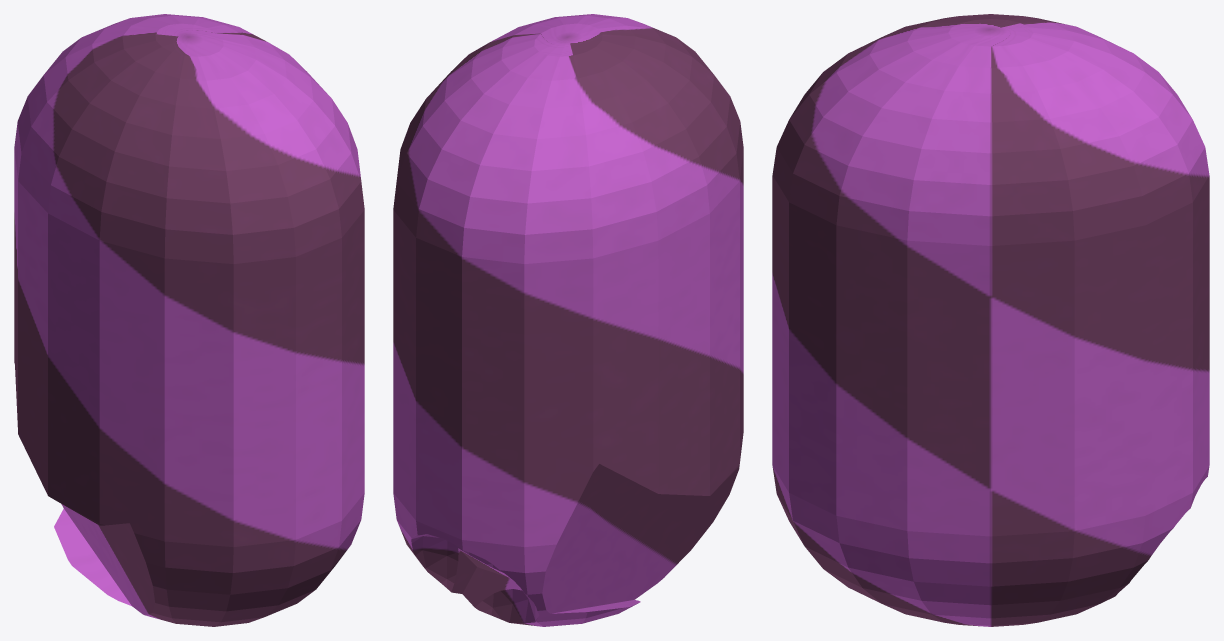
The model's file is stall.glb.
3 views of the same model, side by side, from view 1: azimuth 30°, elevation 25°; view 2: azimuth 150°, elevation 25°; view 3: azimuth 270°, elevation 25° (orthographic). The views are drawn at different scales.
Parts seen in each view (by area): view 1: geometry_0; view 2: geometry_0; view 3: geometry_0.
Boxes of the visible parts, <box> form: geometry_0: <box>14,14,364,626</box>; geometry_0: <box>393,14,743,626</box>; geometry_0: <box>772,14,1209,626</box>.
Size of the model in its own units: 0.9519 by 1.82 by 1.24.
Materials: 1 (1 with a texture image).
